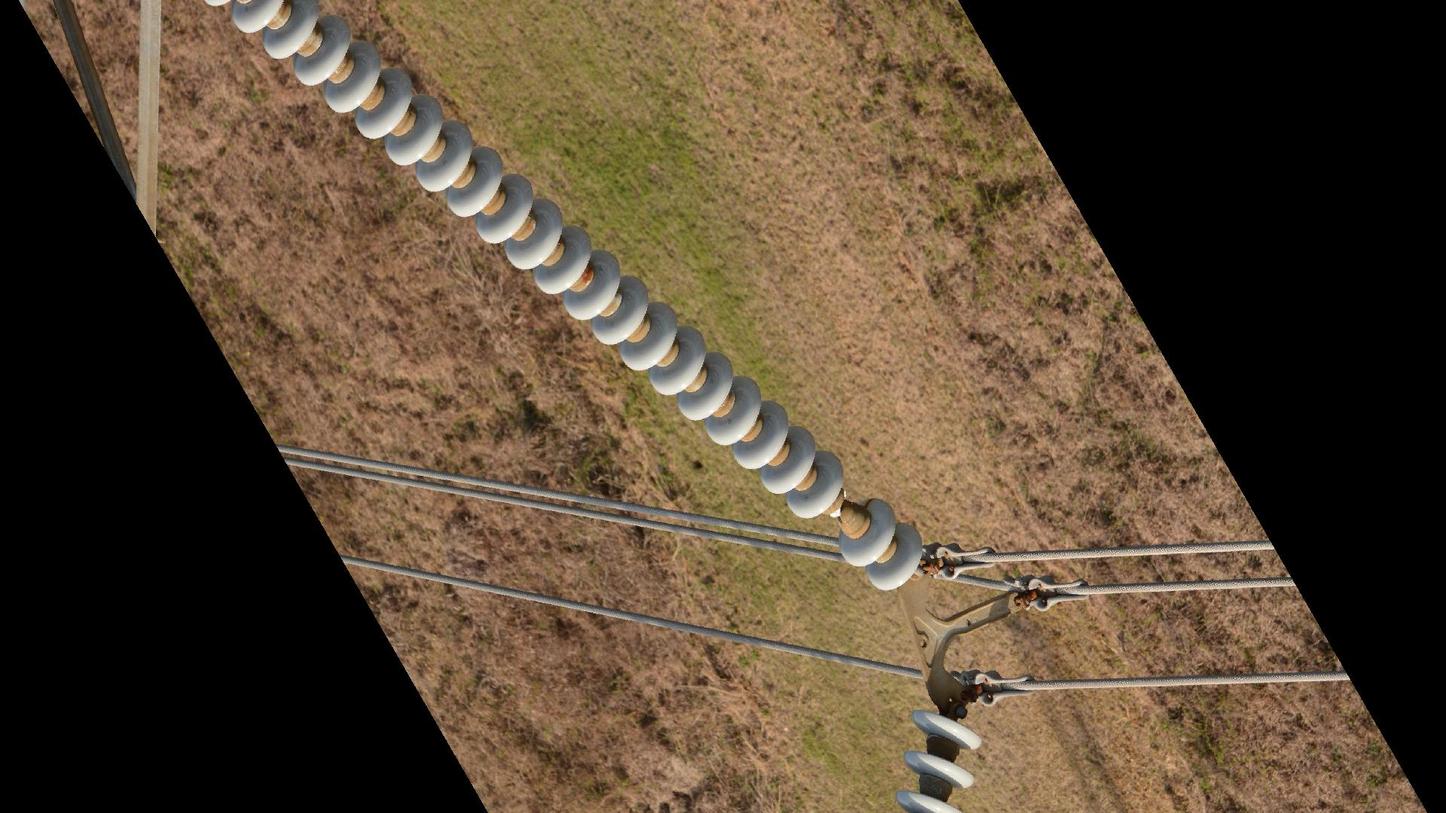insulator: (186, 1, 850, 527), (892, 704, 989, 813), (834, 494, 928, 601)
